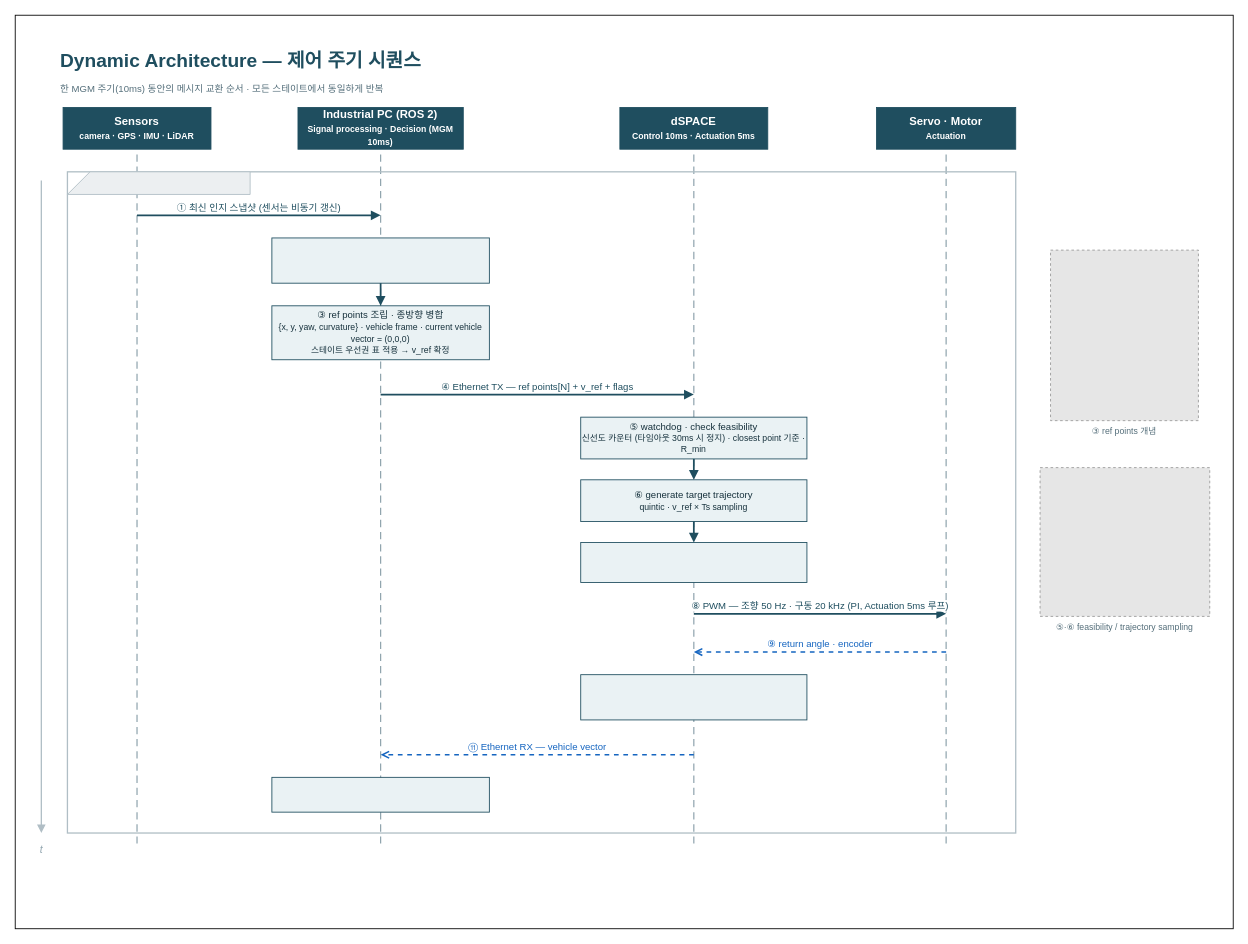
The diagram is 1248 pixels wide and 944 high, and some of its shapes have lost their labels. Grey dashed boxes stand in for pictures. Here are the shapes that lost their labels. From the top down, the centre of each, then its label:
the point at 158,182: loop [ MGM 10ms 주기 ]
the point at 380,260: ② 스테이트 머신 — 전이 판단 · 스테이트 내 우선권 결정 lane ↔ waypoint ↔ avoid ↔ parking · 10ms 고정 주기
the point at 693,562: ⑦ MPC → v_ref, str_ref
the point at 693,697: ⑩ vehicle vector estimation kinematic bicycle model → (x, y, yaw, v, str)
the point at 380,794: ⑫ localization 보정 · 다음 주기 기준 갱신
